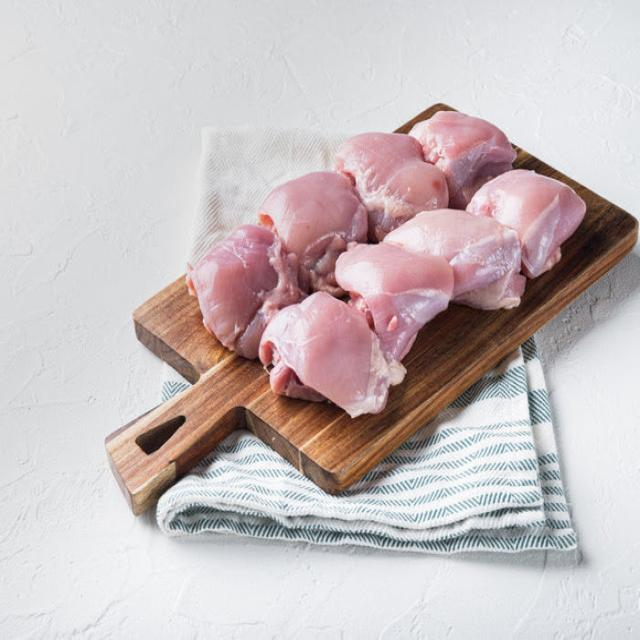thigh: (251, 285, 417, 421), (257, 153, 373, 283), (322, 241, 474, 339), (350, 109, 452, 242), (479, 158, 589, 280), (198, 228, 306, 352), (401, 196, 524, 300), (424, 100, 514, 192)
